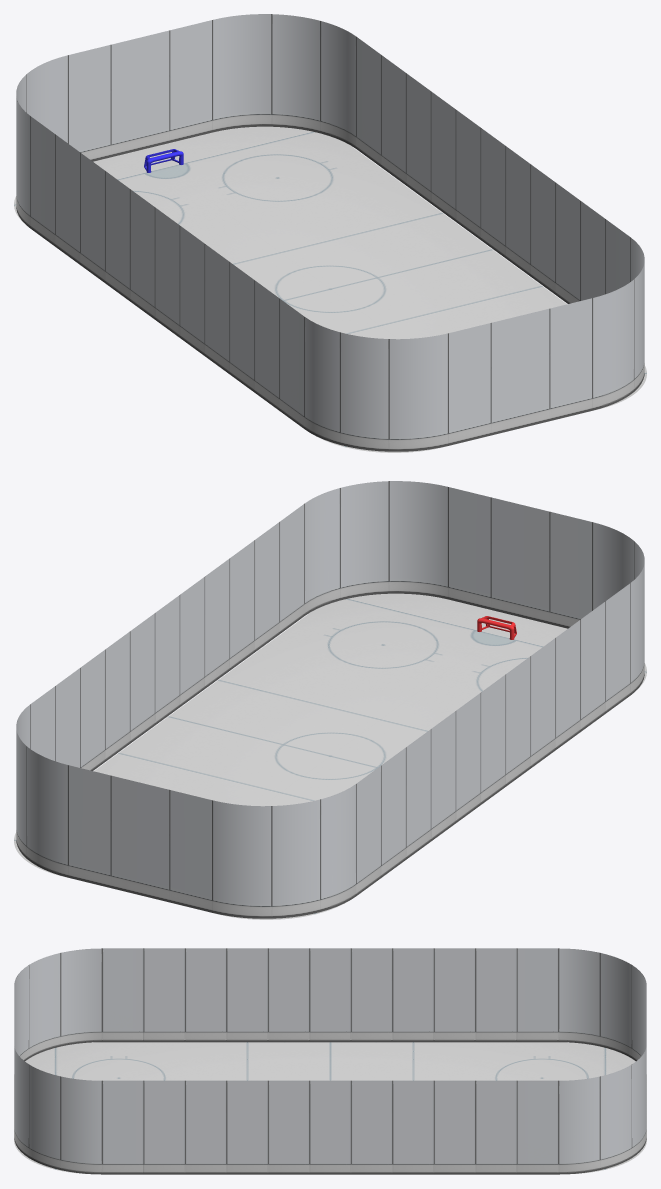
Rendered from arena.glb.
3 renders of one model, top to bottom at view 1: azimuth 30°, elevation 25°; view 2: azimuth 150°, elevation 25°; view 3: azimuth 270°, elevation 25°, orthographic. The views are drawn at different scales.
Parts seen in each view (by area): view 1: baseboards, baseice; view 2: baseboards, baseice; view 3: baseboards, baseice.
Part boxes in pixels (x1=…): baseboards: x1=16, y1=14, x2=644, y2=451; baseice: x1=14, y1=126, x2=646, y2=452; baseboards: x1=16, y1=481, x2=644, y2=918; baseice: x1=14, y1=593, x2=646, y2=919; baseboards: x1=14, y1=948, x2=646, y2=1174; baseice: x1=14, y1=1042, x2=646, y2=1173.
Bounding box in the file's own units: 30.2 × 10.02 × 61.04.
Materials: 4 (4 with a texture image).
